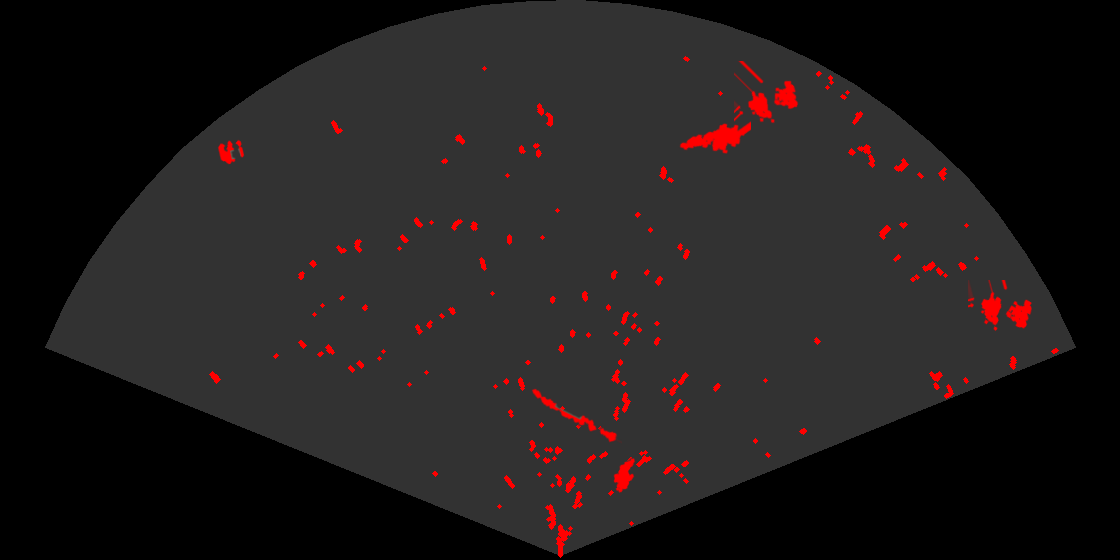AUV: (612, 456, 637, 494)
ball: (216, 138, 246, 166)
cage: (734, 61, 800, 125), (968, 280, 1034, 333)
chain: (530, 387, 622, 445)
frogman: (678, 119, 751, 155)
